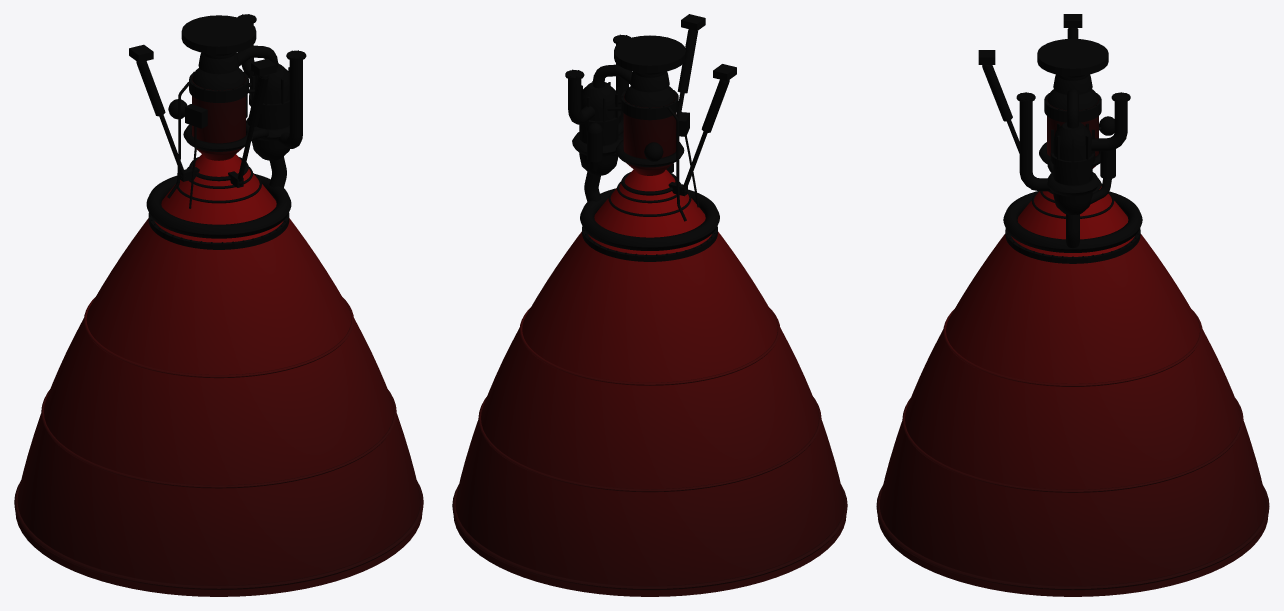
Rendered from eng_kerolox_vacuum.fbx.
3 views of the same model, side by side, from view 1: azimuth 30°, elevation 25°; view 2: azimuth 150°, elevation 25°; view 3: azimuth 270°, elevation 25° (orthographic). The views are drawn at different scales.
Visible parts, largest first — view 1: eng_kerolox_vacuum_LOD0; view 2: eng_kerolox_vacuum_LOD0; view 3: eng_kerolox_vacuum_LOD0.
Boxes of the visible parts, left/top/right/bottom form: eng_kerolox_vacuum_LOD0: left=14, top=14, right=423, bottom=596; eng_kerolox_vacuum_LOD0: left=452, top=14, right=847, bottom=596; eng_kerolox_vacuum_LOD0: left=876, top=14, right=1269, bottom=596.
Size of what is drawn, in the model's own units: 3.02 by 3.9 by 3.02.
